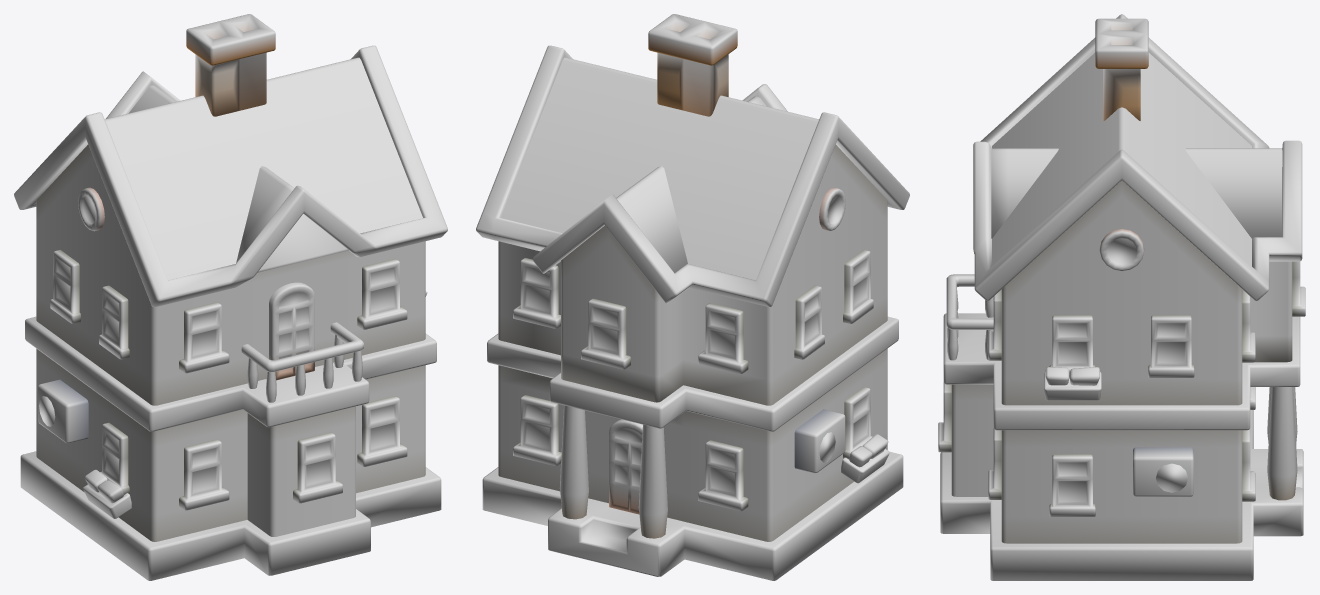
File: Building_034.fbx
3 renders of one model, left to right at view 1: azimuth 30°, elevation 25°; view 2: azimuth 150°, elevation 25°; view 3: azimuth 270°, elevation 25°, orthographic.
Parts seen in each view (by area): view 1: Building_034; view 2: Building_034; view 3: Building_034.
Boxes of the visible parts, box(x1,y1,x2,y2) form: Building_034: box(14, 14, 447, 580); Building_034: box(476, 14, 909, 580); Building_034: box(938, 14, 1305, 580).
Bounding box in the file's own units: 930 × 916 × 1306.
